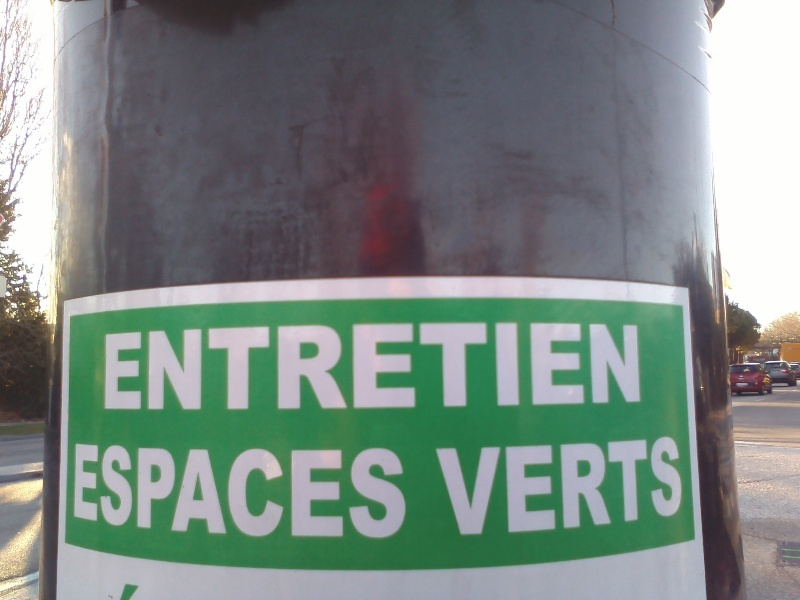text: (449, 436, 464, 538), (465, 436, 480, 538), (481, 436, 496, 538), (497, 436, 512, 538), (513, 436, 528, 538), (529, 436, 544, 538), (545, 436, 560, 538), (561, 436, 576, 538), (577, 436, 592, 538), (593, 436, 608, 538), (609, 436, 624, 538), (625, 436, 640, 538), (641, 436, 656, 538), (657, 436, 672, 538), (81, 443, 96, 542), (97, 443, 112, 542), (113, 443, 128, 542), (129, 443, 144, 542), (145, 443, 160, 542), (161, 443, 176, 542), (177, 443, 192, 542), (193, 443, 208, 542), (209, 443, 224, 542), (225, 443, 240, 542), (241, 443, 256, 542), (257, 443, 272, 542), (273, 443, 288, 542), (289, 443, 304, 542), (305, 443, 320, 542), (321, 443, 336, 542), (337, 443, 352, 542), (353, 443, 368, 542), (369, 443, 384, 542), (385, 443, 400, 542), (113, 317, 128, 412), (129, 317, 144, 412), (145, 317, 160, 412), (161, 317, 176, 412), (177, 317, 192, 412), (193, 317, 208, 412), (209, 317, 224, 412), (225, 317, 240, 412), (241, 317, 256, 412), (257, 317, 272, 412), (273, 317, 288, 412), (289, 317, 304, 412), (305, 317, 320, 412), (321, 317, 336, 412), (337, 317, 352, 412), (353, 317, 368, 412), (369, 317, 384, 412), (385, 317, 400, 412), (401, 317, 416, 412), (417, 317, 432, 412), (433, 317, 448, 412), (449, 317, 464, 412), (465, 317, 480, 412), (481, 317, 496, 412), (497, 317, 512, 412), (513, 317, 528, 412), (529, 317, 544, 412), (545, 317, 560, 412), (561, 317, 576, 412), (577, 317, 592, 412), (593, 317, 608, 412), (609, 317, 624, 412), (625, 317, 640, 412), (435, 436, 448, 538), (673, 436, 686, 538), (401, 443, 410, 542), (105, 317, 112, 412), (76, 443, 80, 542), (641, 317, 642, 412), (737, 383, 749, 387)
